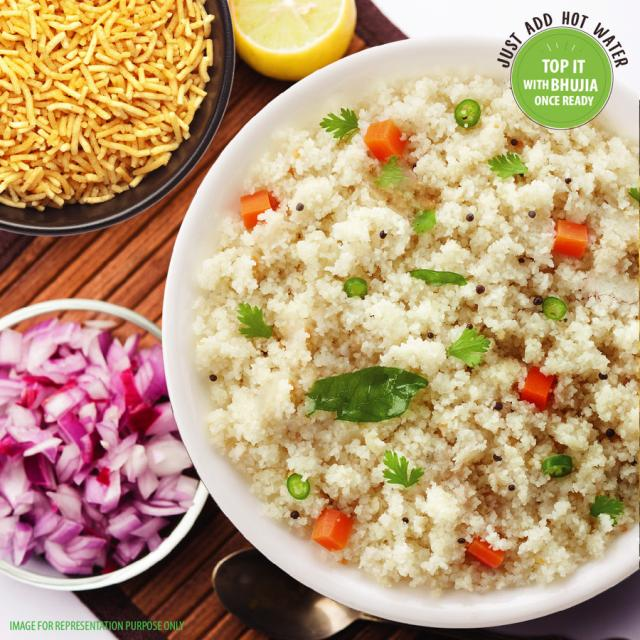UPMA: (185, 66, 639, 594)
